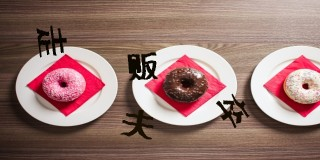卒: (215, 93, 251, 129)
夫: (120, 106, 155, 142)
贩: (125, 51, 159, 83)
走: (32, 24, 67, 58)
